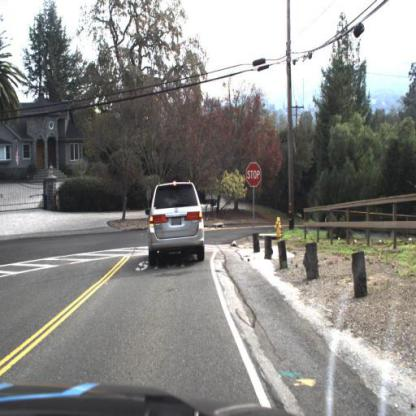car: (143, 180, 209, 268)
